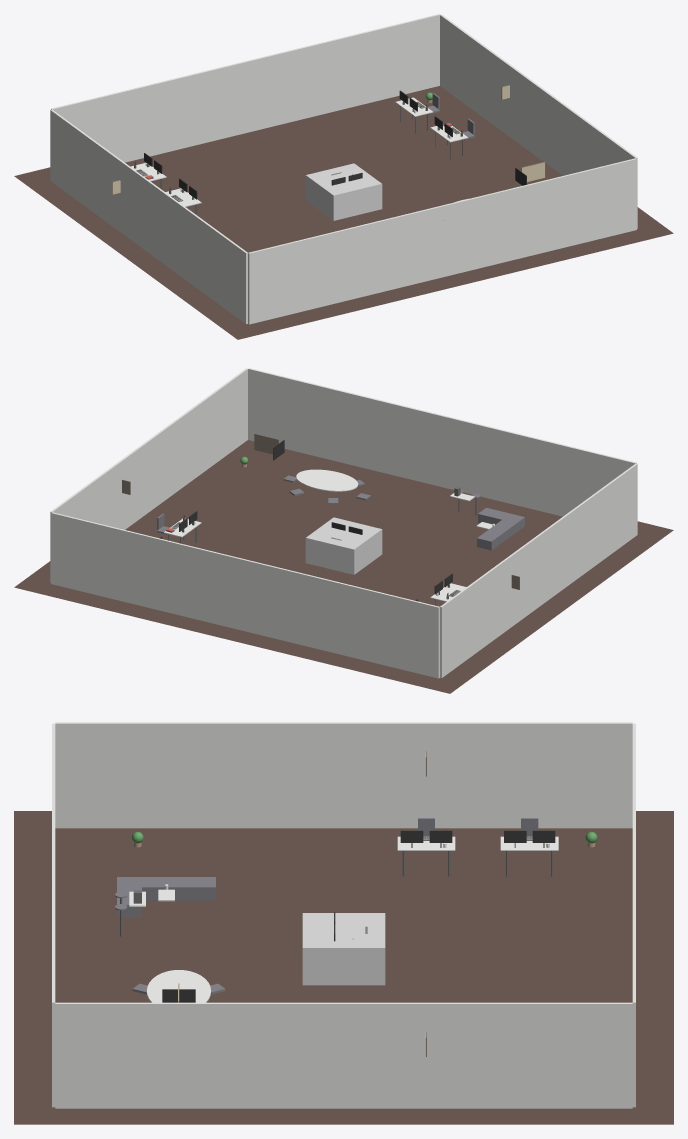
Rendered from office_v32.glb.
3 views of the same model, one above another, from view 1: azimuth 30°, elevation 25°; view 2: azimuth 150°, elevation 25°; view 3: azimuth 270°, elevation 25° (orthographic). The views are drawn at different scales.
Parts seen in each view (by area): view 1: Floor, Wall_South, Wall_North, Wall_West, Wall_East, Cube; view 2: Floor, Wall_North, Wall_South, Wall_West, Wall_East, Cube, Cylinder.055, Cube.263, Cube.264; view 3: Floor, Wall_East, Wall_West, Cube, Cube.263, Wall_South, Wall_North, Cylinder.055, Cube.264.
Part boxes in pixels (left/top/right/bottom): Floor: left=14, top=86, right=673, bottom=339; Wall_South: left=248, top=158, right=636, bottom=324; Wall_North: left=51, top=14, right=439, bottom=162; Wall_West: left=50, top=109, right=247, bottom=324; Wall_East: left=440, top=14, right=637, bottom=228; Cube: left=305, top=163, right=382, bottom=220; Floor: left=14, top=440, right=673, bottom=693; Wall_North: left=51, top=512, right=439, bottom=678; Wall_South: left=248, top=368, right=636, bottom=516; Wall_West: left=440, top=463, right=637, bottom=678; Wall_East: left=50, top=368, right=247, bottom=582; Cube: left=305, top=517, right=382, bottom=574; Cylinder.055: left=296, top=469, right=358, bottom=491; Cube.263: left=477, top=519, right=516, bottom=550; Cube.264: left=478, top=507, right=524, bottom=531; Floor: left=14, top=811, right=673, bottom=1124; Wall_East: left=55, top=1002, right=632, bottom=1108; Wall_West: left=55, top=722, right=632, bottom=828; Cube: left=302, top=913, right=385, bottom=985; Cube.263: left=142, top=877, right=215, bottom=900; Wall_South: left=52, top=723, right=55, bottom=1107; Wall_North: left=632, top=723, right=635, bottom=1107; Cylinder.055: left=146, top=970, right=211, bottom=1002; Cube.264: left=117, top=877, right=141, bottom=917.
Bounding box in the file's own units: 18 × 3.8 × 16.
